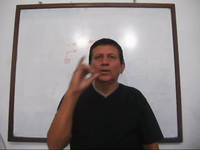oi: (70, 54, 100, 96)
